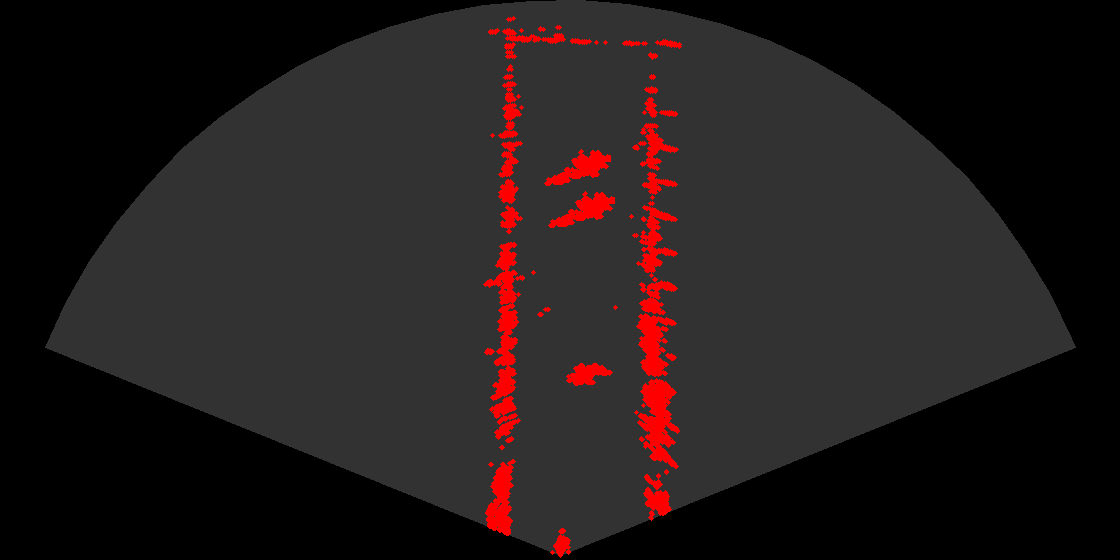AUV: (560, 361, 616, 393)
frogman: (547, 185, 615, 232), (543, 143, 611, 190)
